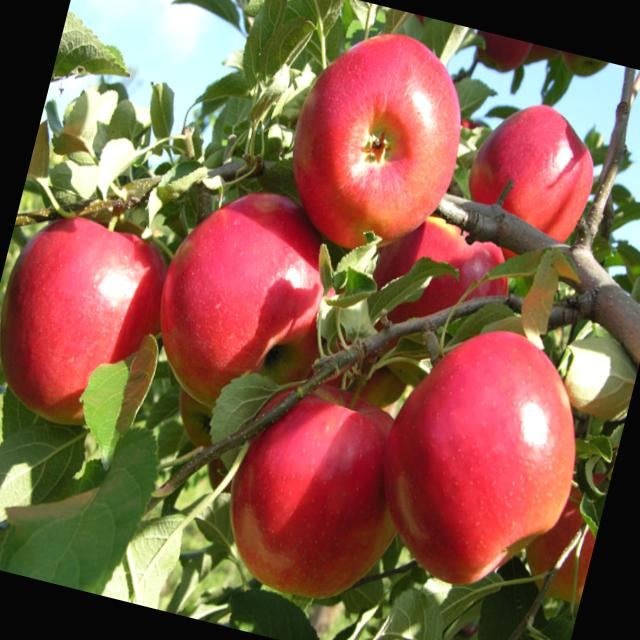apple: (351, 296, 601, 618), (203, 354, 446, 632), (132, 166, 366, 433), (264, 12, 494, 258), (0, 180, 191, 460), (345, 198, 534, 392), (444, 91, 616, 294)
